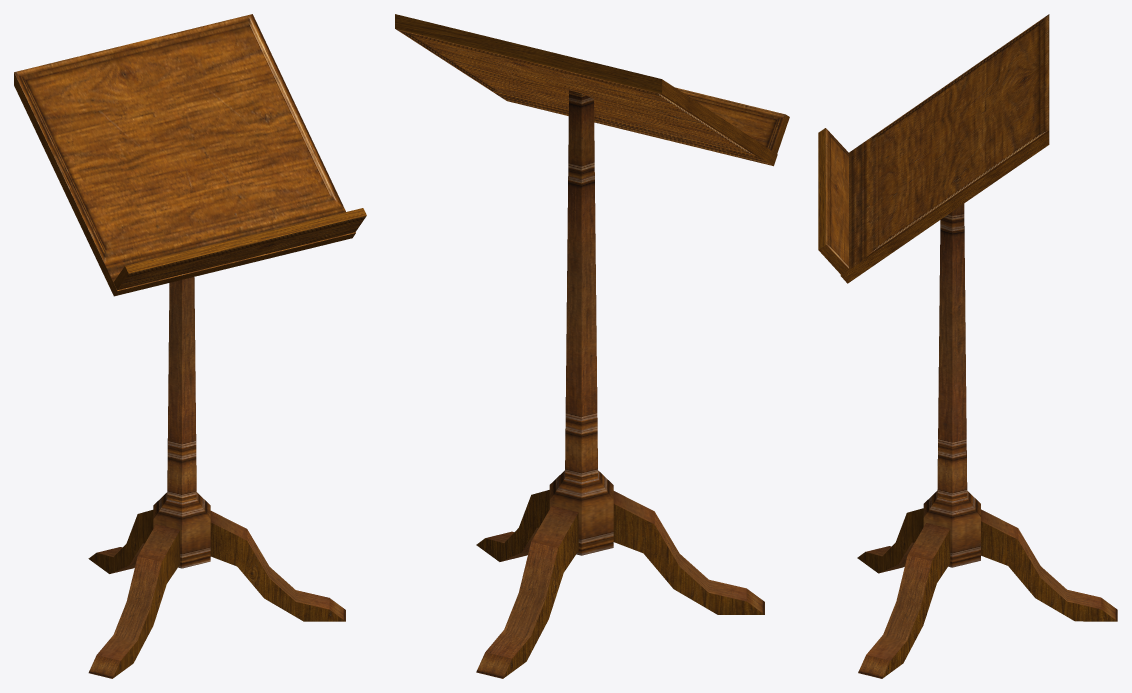
File: mm9_deco_podium.glb
The picture shows the model from 3 angles, left to right: view 1: azimuth 30°, elevation 25°; view 2: azimuth 150°, elevation 25°; view 3: azimuth 270°, elevation 25°; orthographic projection. The views are drawn at different scales.
Visible parts, largest first — view 1: Podium; view 2: Podium; view 3: Podium.
Part boxes in pixels (x1,y1,x2,y2): Podium: [14, 14, 366, 678]; Podium: [395, 14, 789, 678]; Podium: [818, 14, 1117, 678].
Size of the model in its own units: 0.8397 by 1.67 by 0.837.
Materials: 2 (2 with a texture image).
